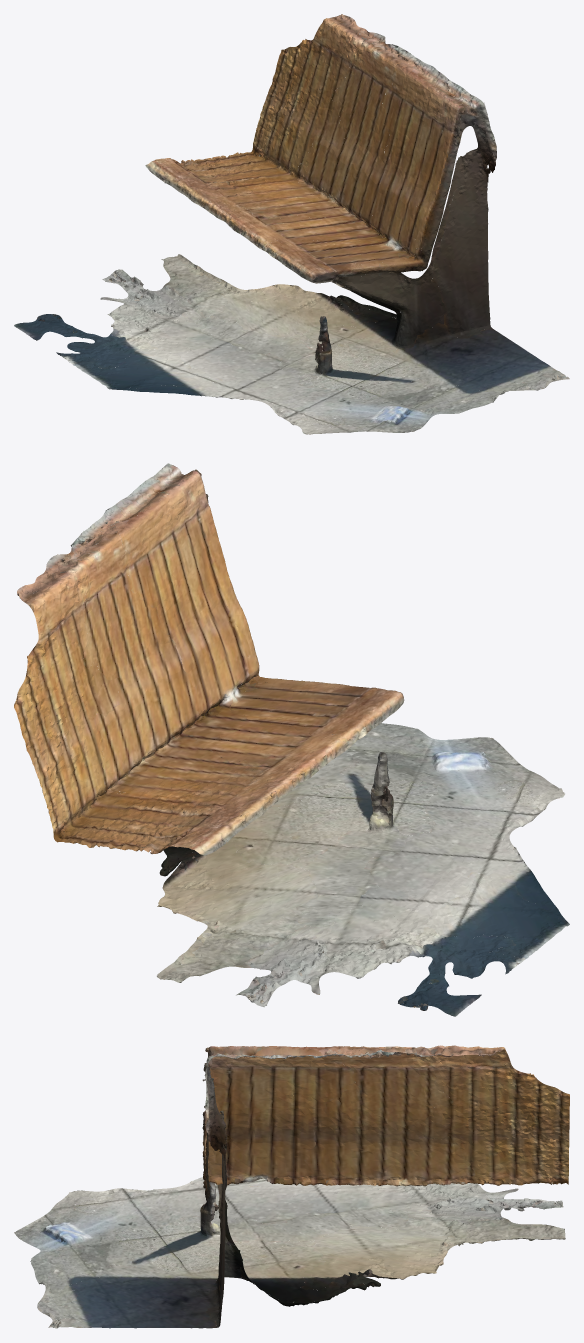
Rendered from S008_TrashedBench.glb.
The picture shows the model from 3 angles, top to bottom: view 1: azimuth 30°, elevation 25°; view 2: azimuth 150°, elevation 25°; view 3: azimuth 270°, elevation 25°; orthographic projection. The views are drawn at different scales.
Visible parts, largest first — view 1: Object_4; view 2: Object_4; view 3: Object_4.
Part boxes in pixels (left/top/right/bottom): Object_4: left=14, top=14, right=569, bottom=434; Object_4: left=14, top=463, right=569, bottom=1016; Object_4: left=14, top=1045, right=569, bottom=1328.
Size of the model in its own units: 9.2 by 5.9 by 10.89.
1 material, 1 textured.
